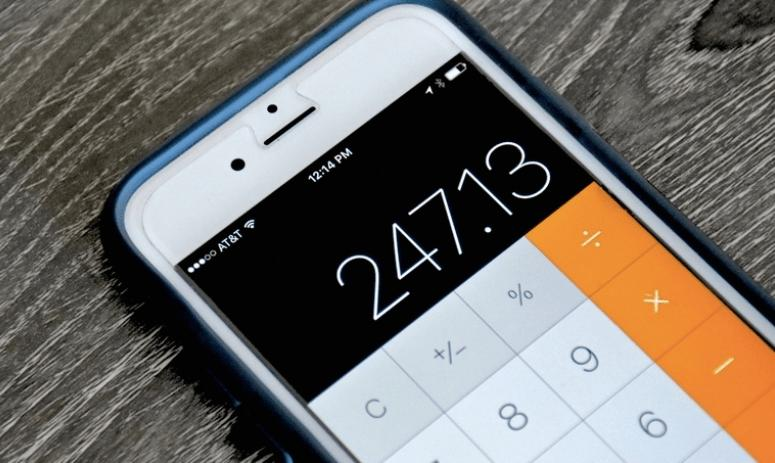Calculator: (289, 125, 775, 463)
